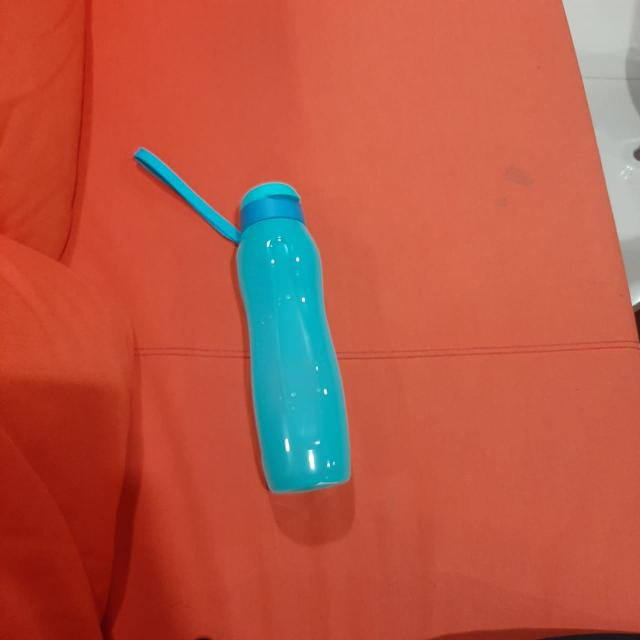Anorganik: (132, 136, 388, 514)
